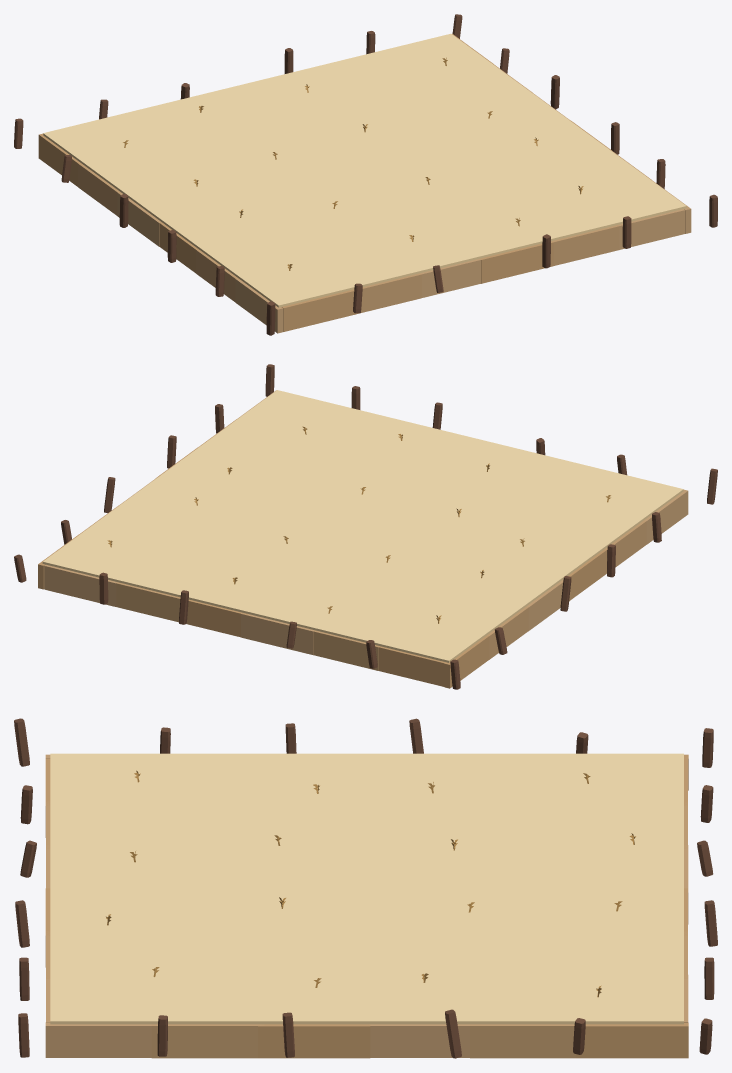
Rendered from hay_field.glb.
The picture shows the model from 3 angles, top to bottom: view 1: azimuth 30°, elevation 25°; view 2: azimuth 150°, elevation 25°; view 3: azimuth 270°, elevation 25°; orthographic projection. The views are drawn at different scales.
Parts seen in each view (by area): view 1: Canopy3, Canopy4, Canopy, Canopy2, EdgePlank4, EdgePlank, EdgePlank3; view 2: Canopy, Canopy2, Canopy3, Canopy4, EdgePlank2, EdgePlank; view 3: Canopy4, Canopy2, Canopy3, Canopy, EdgePlank3, EdgePlank4, EdgePlank2, EdgePeg6, EdgePeg19.
Boxes of the visible parts, x1,y1,x2,y2 form: Canopy3: (161, 169, 482, 307); Canopy4: (365, 120, 686, 257); Canopy: (43, 83, 364, 221); Canopy2: (247, 33, 568, 169); EdgePlank4: (282, 209, 685, 331); EdgePlank: (38, 133, 283, 333); EdgePlank3: (452, 33, 691, 233); Canopy: (246, 525, 566, 662); Canopy2: (42, 476, 362, 613); Canopy3: (363, 439, 683, 575); Canopy4: (160, 390, 479, 525); EdgePlank2: (44, 564, 445, 686); EdgePlank: (444, 489, 688, 688); Canopy4: (50, 887, 367, 1024); Canopy2: (367, 887, 683, 1024); Canopy3: (50, 753, 367, 887); Canopy: (367, 753, 683, 887); EdgePlank3: (45, 1022, 688, 1058); EdgePlank4: (45, 758, 50, 1022); EdgePlank2: (684, 758, 688, 1022); EdgePeg6: (445, 1009, 461, 1058); EdgePeg19: (14, 718, 29, 766).
Size of the model in its own units: 4.38 by 0.3898 by 4.38.
